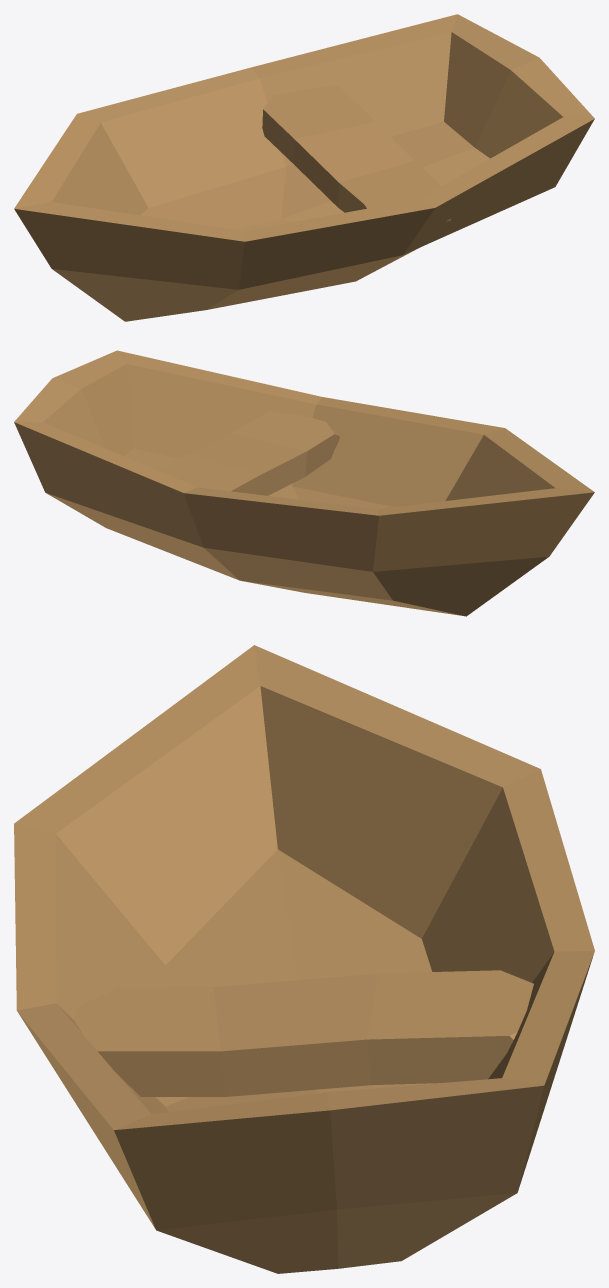
Rendered from Boat_001.fbx.
3 renders of one model, top to bottom at view 1: azimuth 30°, elevation 25°; view 2: azimuth 150°, elevation 25°; view 3: azimuth 270°, elevation 25°, orthographic. The views are drawn at different scales.
Visible parts, largest first — view 1: Boat.001; view 2: Boat.001; view 3: Boat.001.
Part boxes in pixels (<box>): Boat.001: <box>14,14,594,321</box>; Boat.001: <box>14,350,594,616</box>; Boat.001: <box>14,645,594,1273</box>.
Bounding box in the file's own units: 255 × 74.47 × 134.
